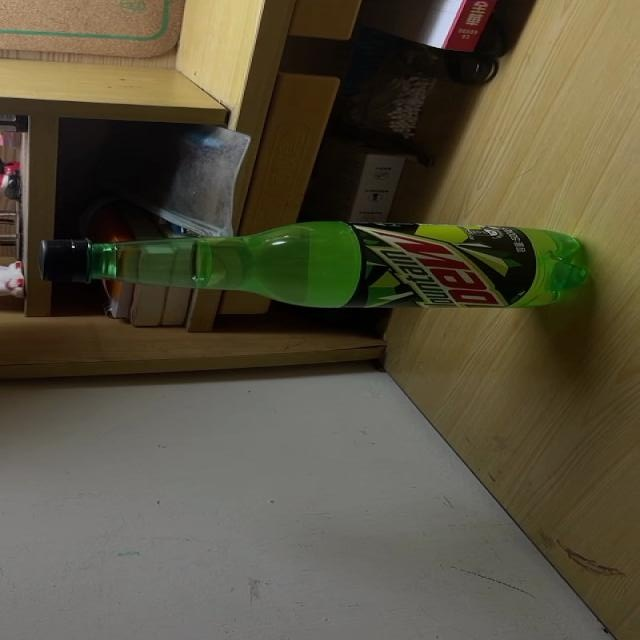Mountain-Dew: (38, 222, 586, 309)
